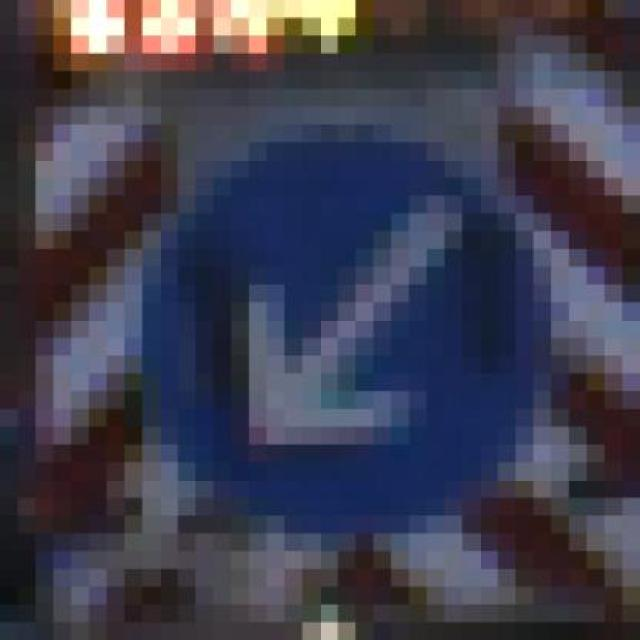Keep-Left: (142, 107, 569, 551)
